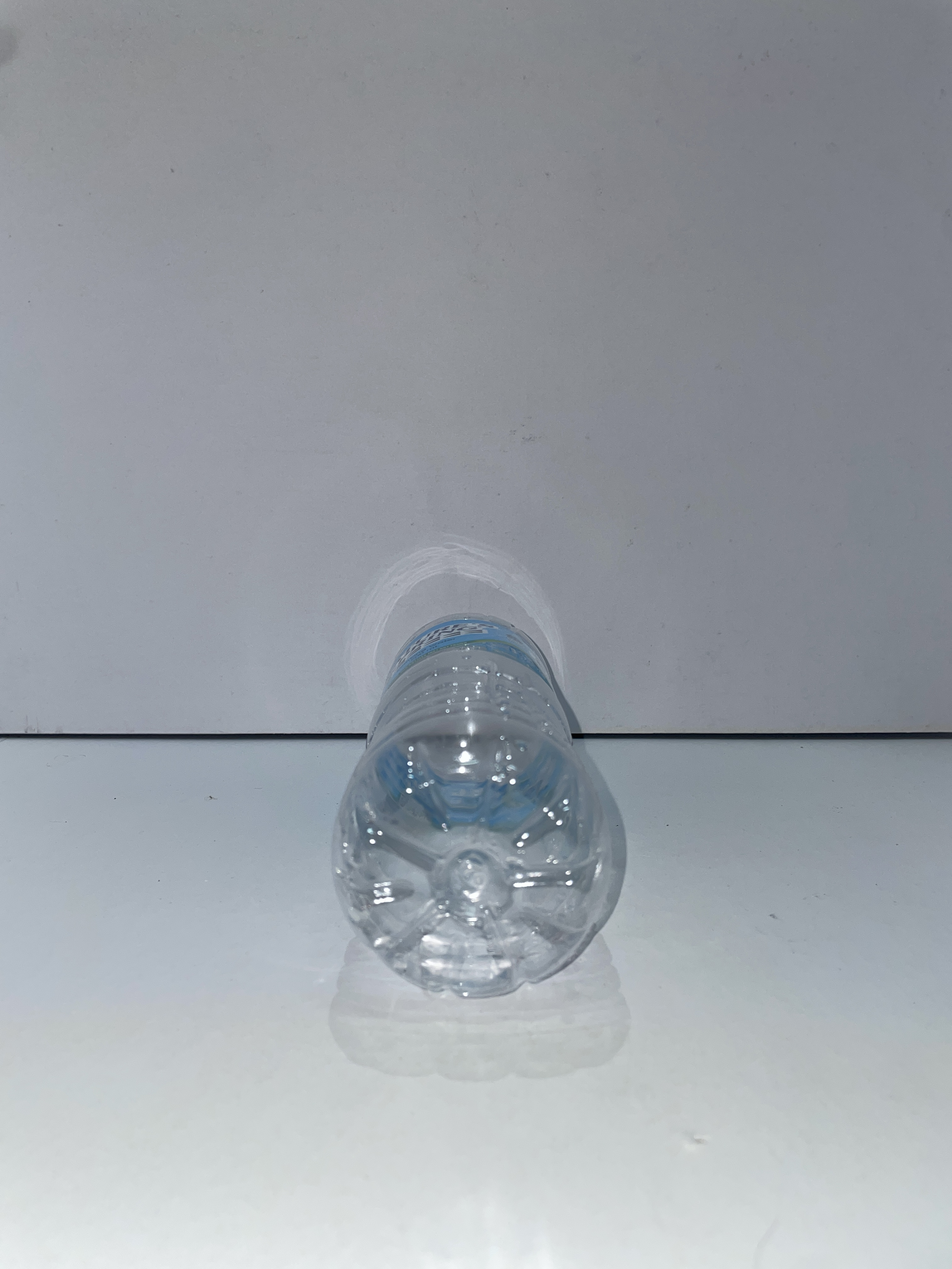natures spring 500ml: (332, 614, 625, 997)
